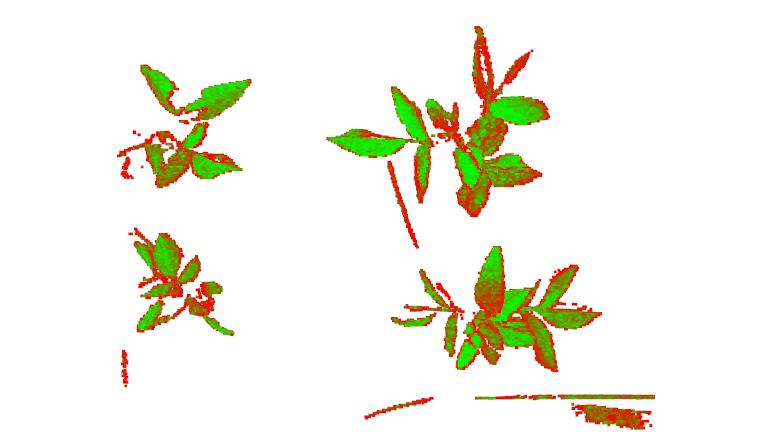mungbean: (321, 19, 550, 217), (386, 246, 610, 373), (126, 61, 255, 193), (127, 221, 244, 341)
